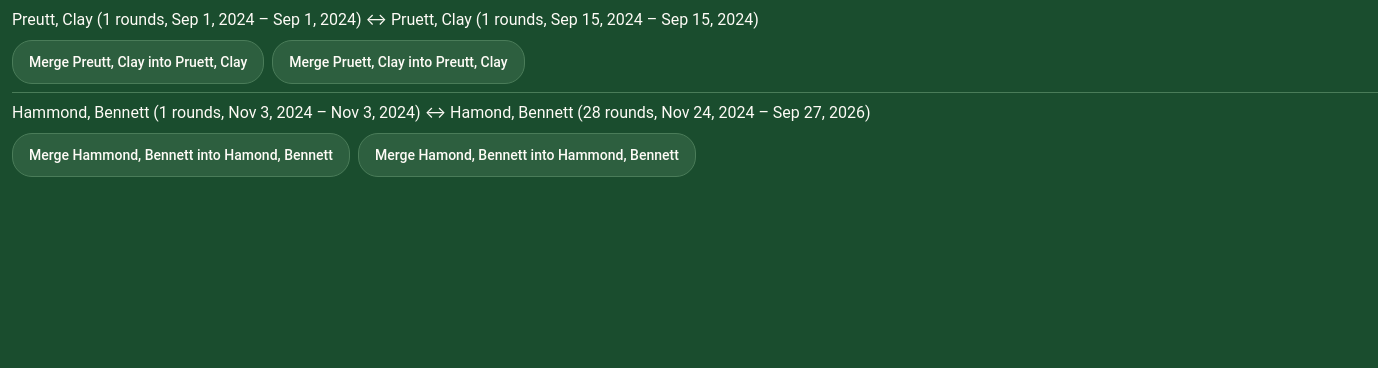
Test: DuplicatesQueue › says there are no shared dates when the dry run finds none, and cancel sends nothing more
The image size is (1378, 368).
Click the button "Merge Pruett, Clay into Preutt, Clay".
click(398, 62)  # box [272,40,525,84]
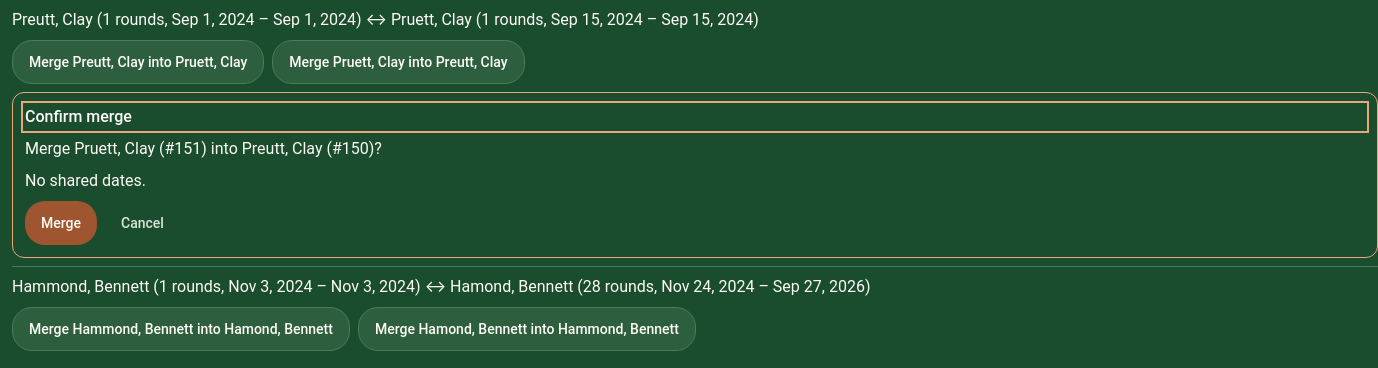
Check: the text "No shared dates." is shown, box [25,171,146,190]
Click the button "Cancel".
click(142, 223)  # box [105,201,180,245]
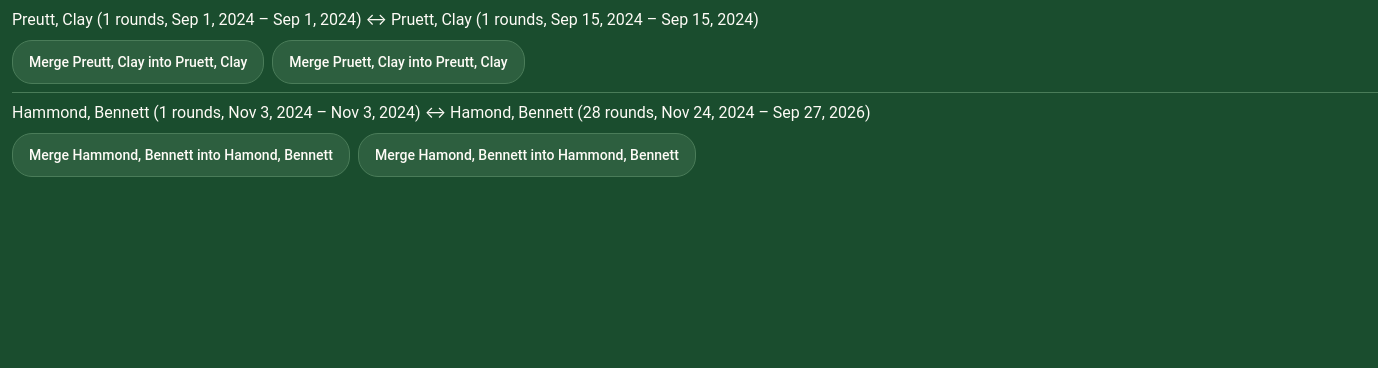
Check: the heading "Confirm merge" is gone
